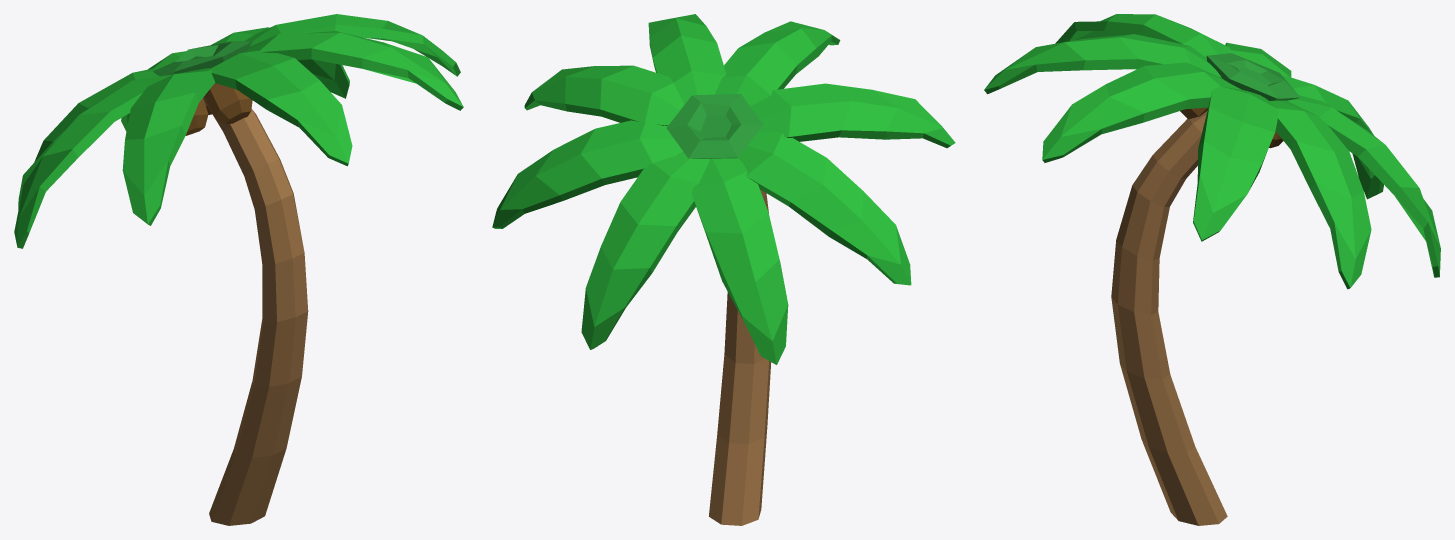
The model's file is palmtree3.fbx.
The picture shows the model from 3 angles, left to right: view 1: azimuth 30°, elevation 25°; view 2: azimuth 150°, elevation 25°; view 3: azimuth 270°, elevation 25°; orthographic projection. The views are drawn at different scales.
Visible parts, largest first — view 1: Cylinder, Cube.003, Cube.006, Cube.007, Cube.004, Cube.005, Cylinder.003, Cube, Cube.002, Cylinder.002; view 2: Cube, Cube.001, Cube.004, Cylinder, Cube.002, Cube.003, Cube.005, Cube.006, Cylinder.003, Cube.007; view 3: Cylinder, Cube.005, Cube.007, Cube.002, Cube.006, Cube.001, Cube.003, Cylinder.003, Cube, Cube.004.
Part boxes in pixels (box(x1,y1,x2,y2)): Cylinder: box(203, 95, 308, 525); Cube.003: box(122, 68, 215, 225); Cube.006: box(207, 50, 352, 166); Cube.007: box(244, 31, 463, 110); Cube.004: box(14, 75, 171, 248); Cube.005: box(244, 14, 460, 76); Cylinder.003: box(153, 41, 252, 76); Cube: box(18, 68, 158, 209); Cube.002: box(211, 27, 349, 98); Cylinder.002: box(205, 83, 252, 124); Cube: box(691, 158, 788, 364); Cube.001: box(581, 152, 709, 349); Cube.004: box(737, 131, 911, 285); Cylinder: box(709, 189, 771, 525); Cube.002: box(492, 120, 683, 228); Cube.003: box(750, 83, 955, 148); Cube.005: box(524, 65, 684, 125); Cube.006: box(715, 21, 840, 106); Cylinder.003: box(666, 94, 763, 158); Cube.007: box(648, 14, 726, 104); Cylinder: box(1111, 111, 1227, 525); Cube.005: box(1193, 86, 1278, 241); Cube.007: box(1042, 62, 1240, 162); Cube.002: box(1269, 100, 1371, 289); Cube.006: box(984, 34, 1221, 94); Cube.001: box(1287, 95, 1440, 277); Cube.003: box(1055, 14, 1230, 57); Cylinder.003: box(1206, 53, 1300, 100); Cube: box(1283, 76, 1383, 199); Cube.004: box(1225, 42, 1291, 77).
Bounding box in the file's own units: 871 × 931 × 808.
